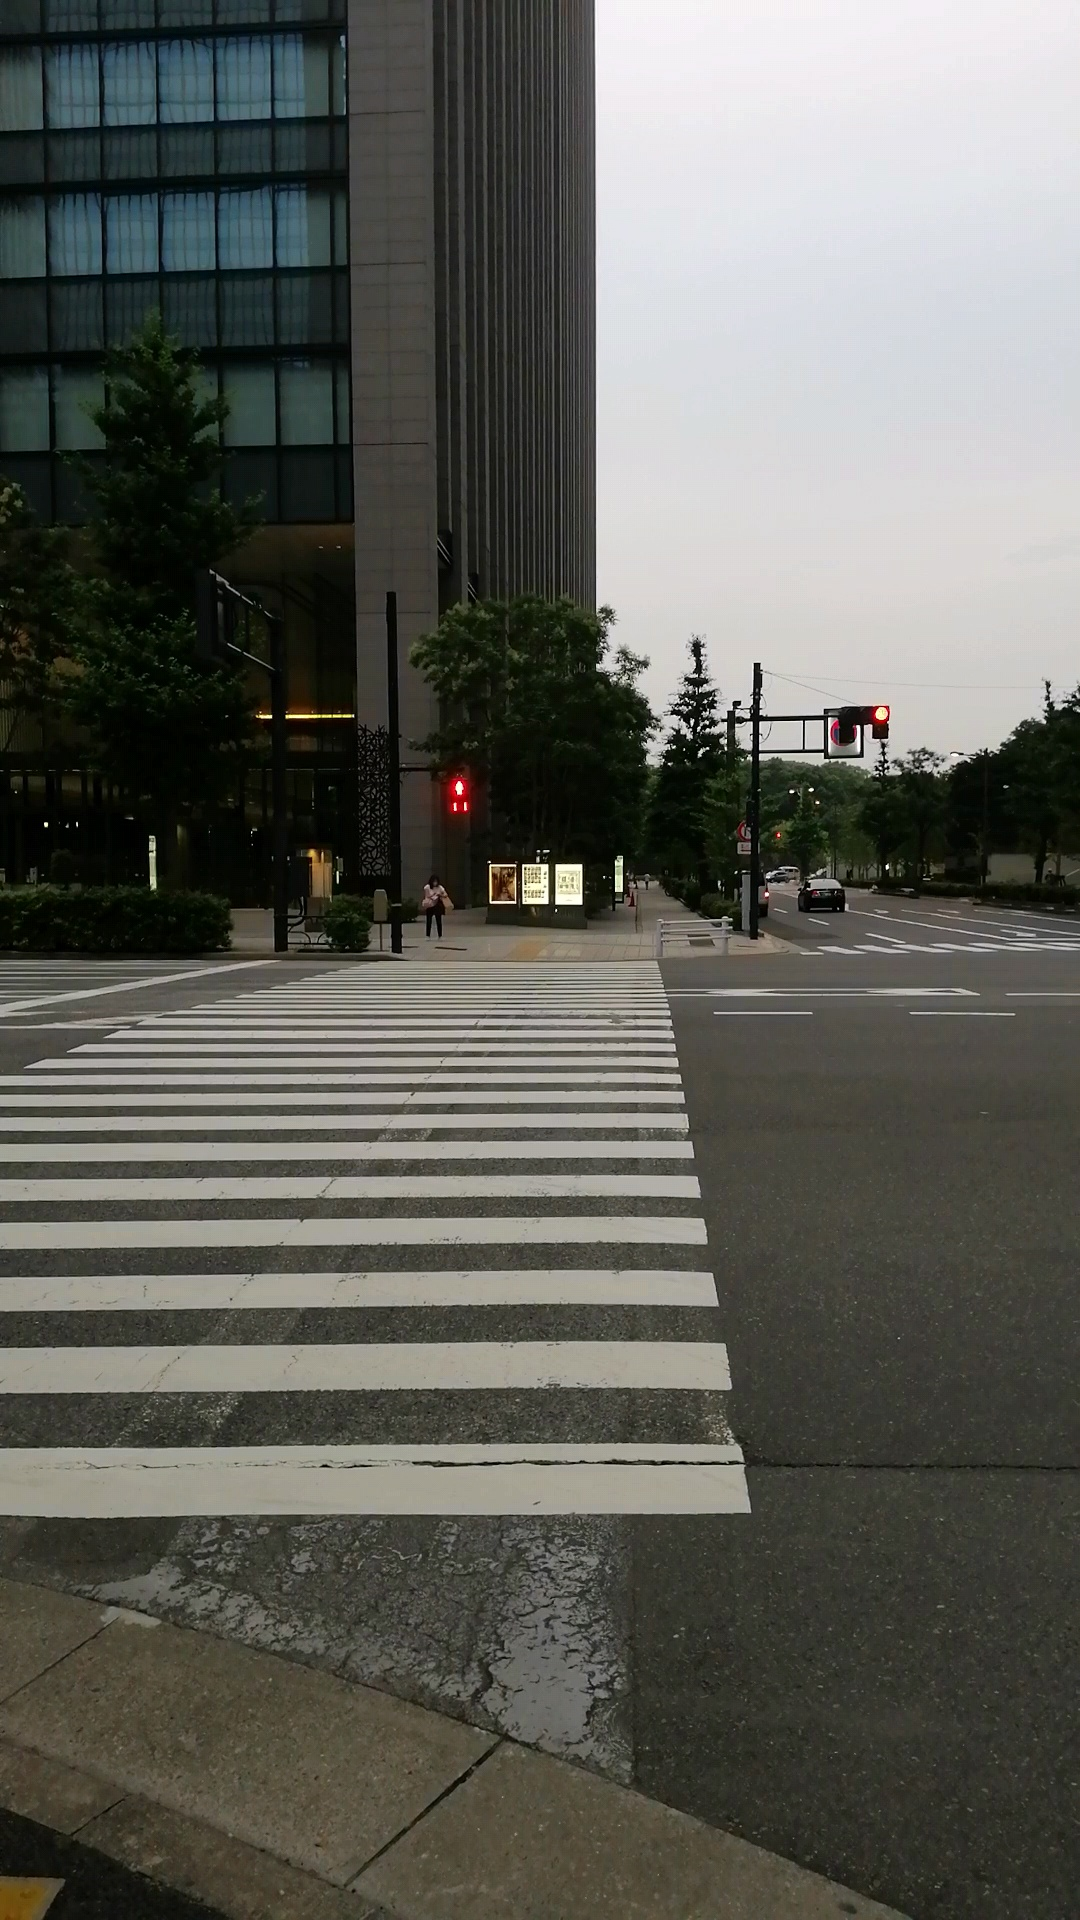red: (447, 775, 469, 816)
